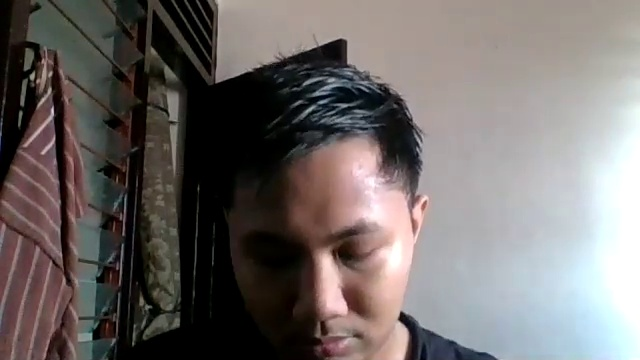Distracted: (212, 87, 426, 356)
